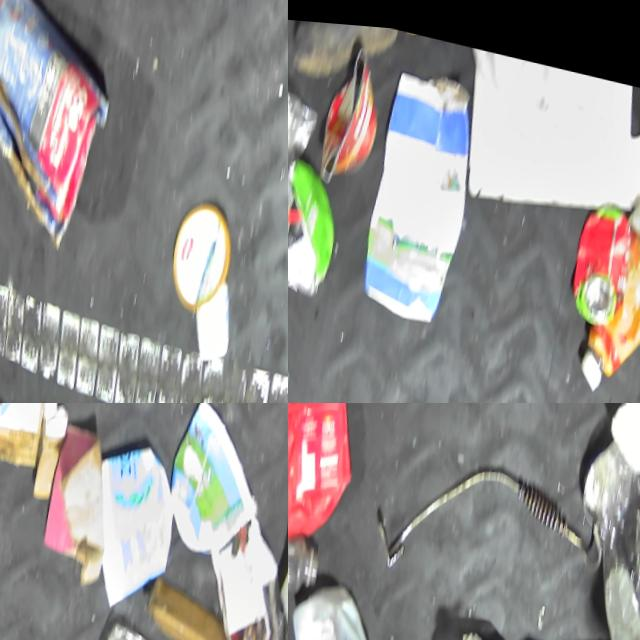can: (312, 34, 391, 192), (563, 188, 639, 324)
milk_jug: (288, 570, 396, 640), (249, 465, 288, 640)
plastic_bottle: (288, 474, 328, 602)
